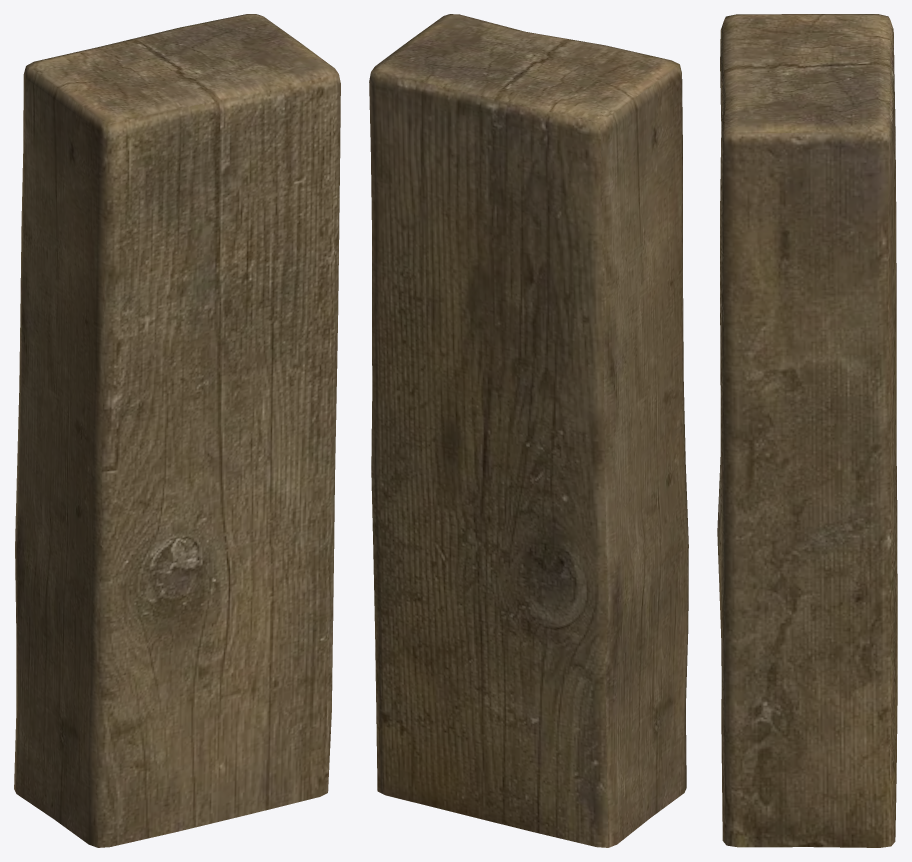
The model's file is timber.glb.
3 views of the same model, side by side, from view 1: azimuth 30°, elevation 25°; view 2: azimuth 150°, elevation 25°; view 3: azimuth 270°, elevation 25° (orthographic).
Parts seen in each view (by area): view 1: WoodBlock; view 2: WoodBlock; view 3: WoodBlock.
Boxes of the visible parts, x1,y1,x2,y2 form: WoodBlock: [14, 14, 340, 847]; WoodBlock: [369, 14, 688, 847]; WoodBlock: [717, 14, 897, 847].
Bounding box in the file's own units: 0.1736 × 0.4841 × 0.1088.
1 material, 1 textured.
